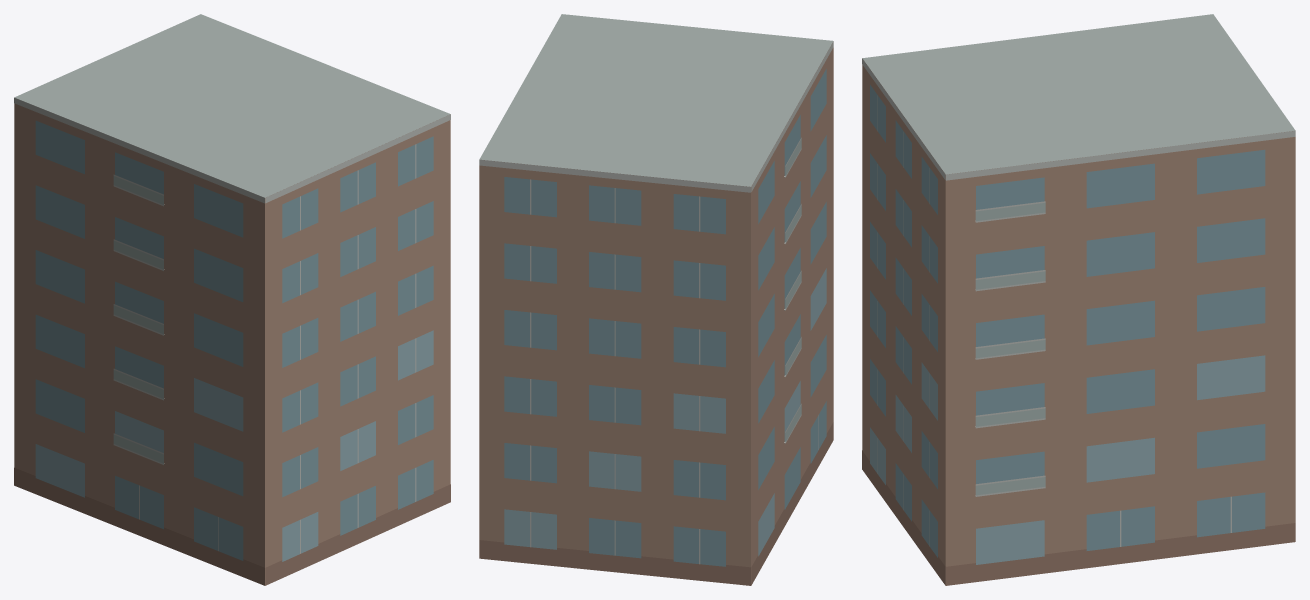
File: survey-upis-32594249.glb
3 views of the same model, side by side, from view 1: azimuth 30°, elevation 25°; view 2: azimuth 150°, elevation 25°; view 3: azimuth 270°, elevation 25° (orthographic). The views are drawn at different scales.
Visible parts, largest first — view 1: survey-upis-32594249.tmp; view 2: survey-upis-32594249.tmp; view 3: survey-upis-32594249.tmp.
Part boxes in pixels (x1,y1,x2,y2): survey-upis-32594249.tmp: [14, 14, 450, 585]; survey-upis-32594249.tmp: [479, 14, 833, 585]; survey-upis-32594249.tmp: [862, 14, 1295, 585].
Bounding box in the file's own units: 13.78 × 16.45 × 15.72.
